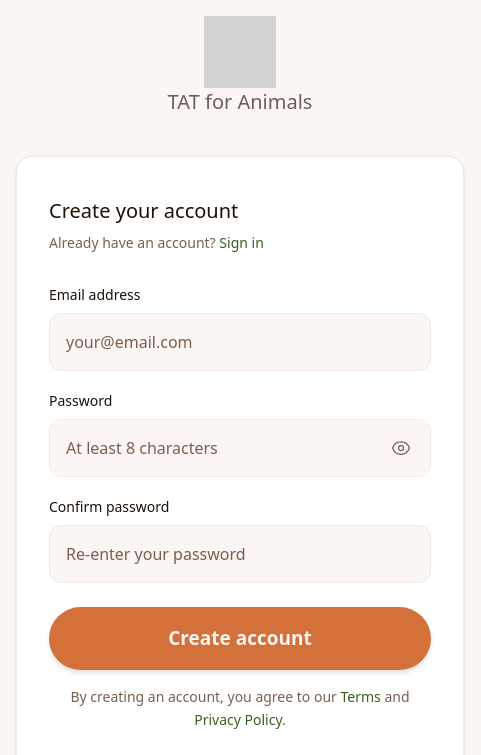
SignupClient — Supabase errors › shows "already exists" message when email is already registered
Type "existing@test.com" into the field labelled "Email address" at [240, 342], box [49, 313, 431, 371]
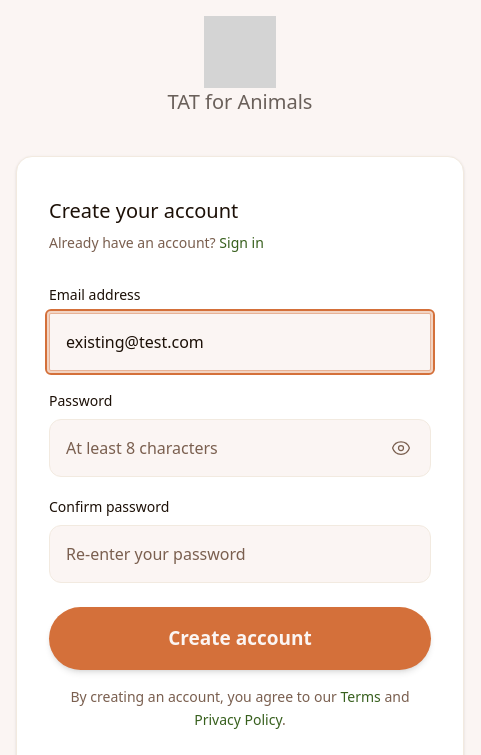
Type "password123" into the password field labelled "Password" at [240, 448], box [49, 419, 431, 477]
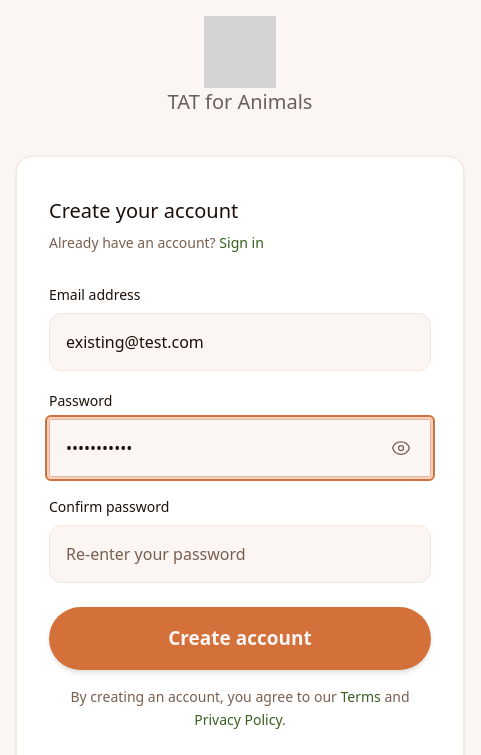
Type "password123" into the password field labelled "Confirm password" at [240, 554], box [49, 525, 431, 583]
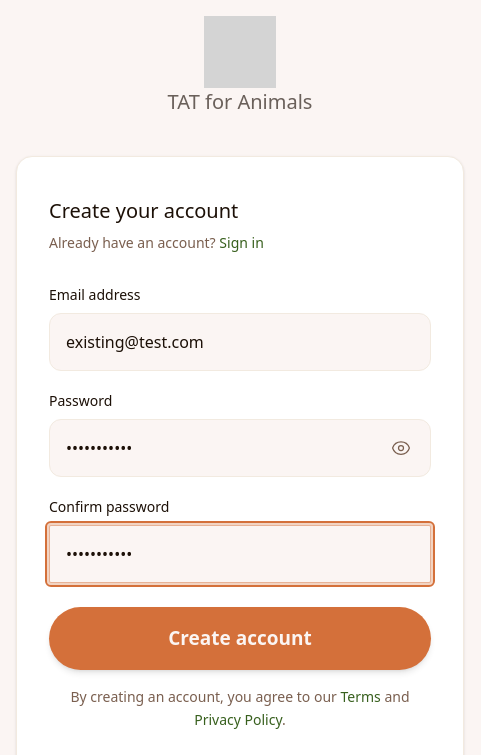
Click the button "Create account" at [240, 639], box [49, 607, 431, 670]
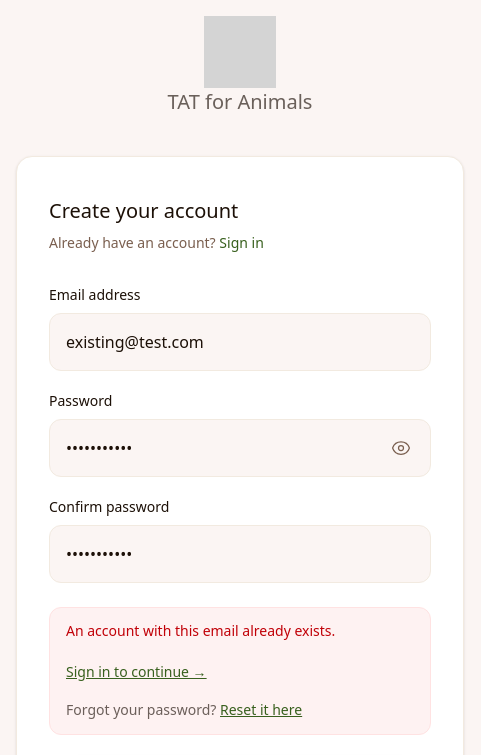
Now the text "An account with this email already exists." is shown, box [66, 621, 335, 640]
